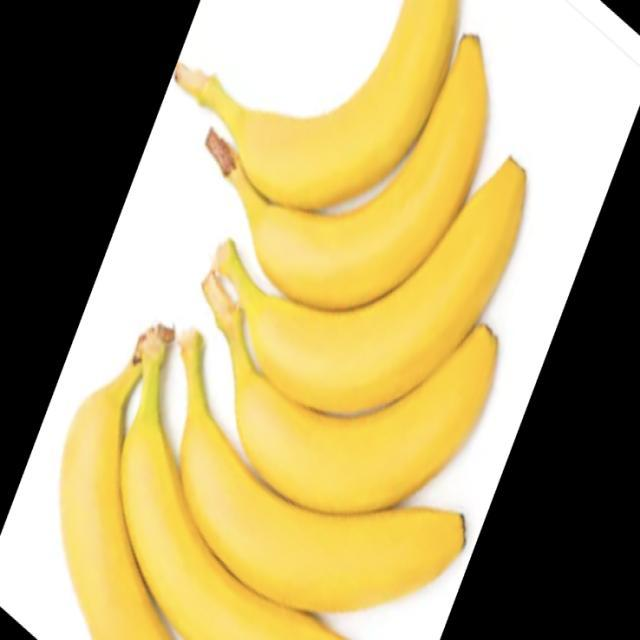Banana: (203, 154, 527, 417), (176, 325, 466, 614), (204, 33, 489, 312), (172, 0, 461, 210)
